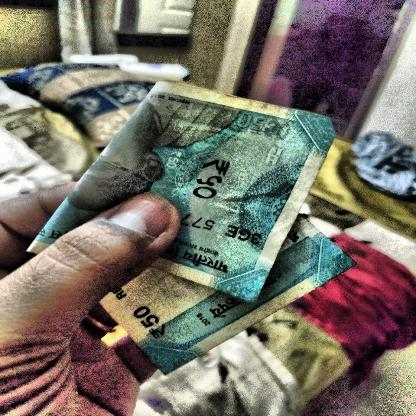Rs50: (125, 300, 176, 345)
